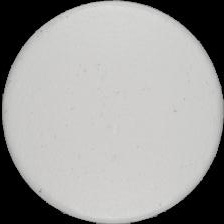59630-575: (0, 0, 224, 224)
